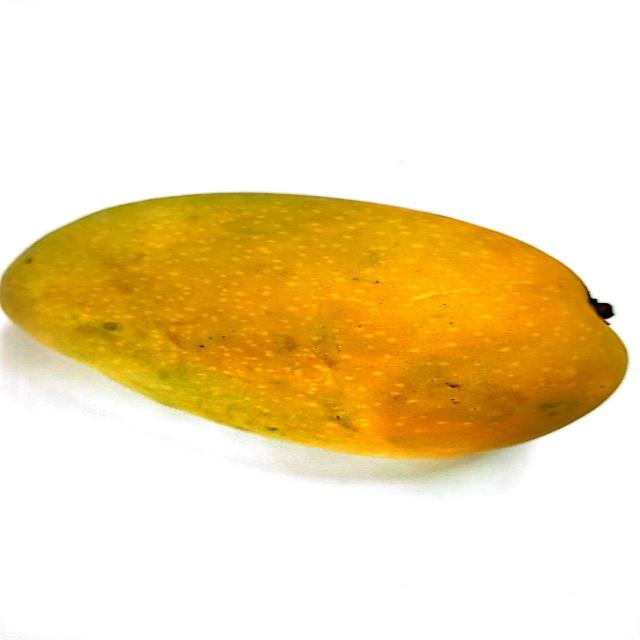fresh_mango: (0, 192, 627, 459)
